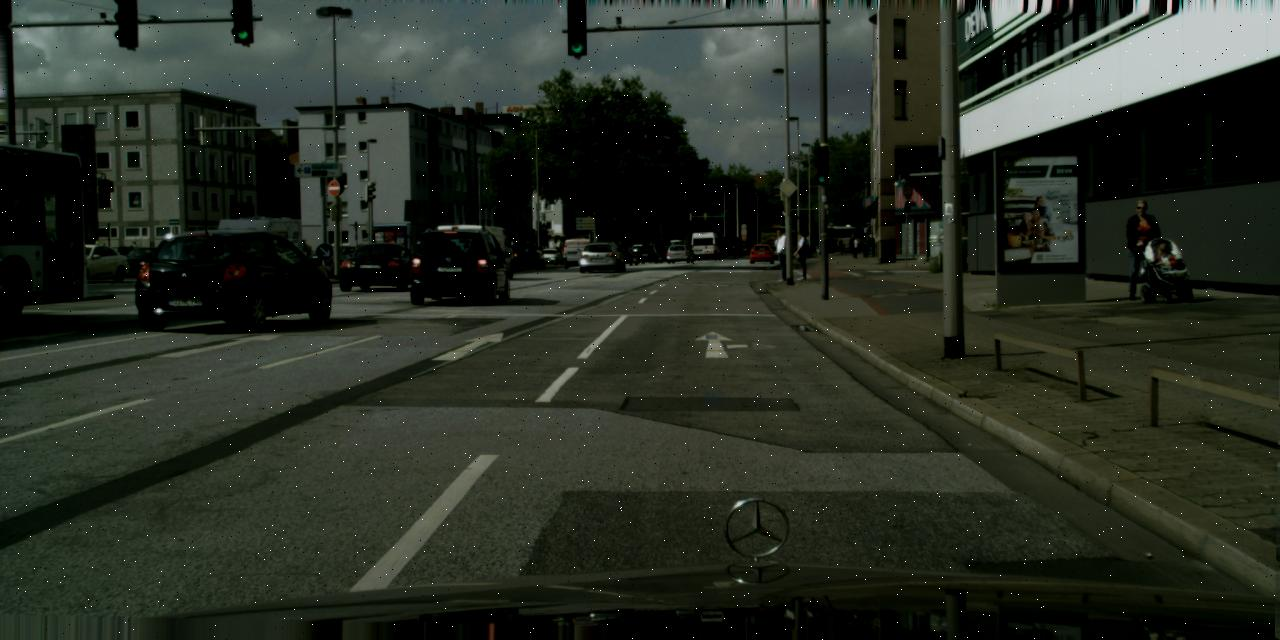ped: (1120, 198, 1162, 300), (770, 228, 791, 280), (792, 230, 811, 279), (848, 233, 858, 256), (851, 236, 860, 258), (866, 234, 875, 256), (828, 237, 834, 252), (837, 238, 842, 252)
